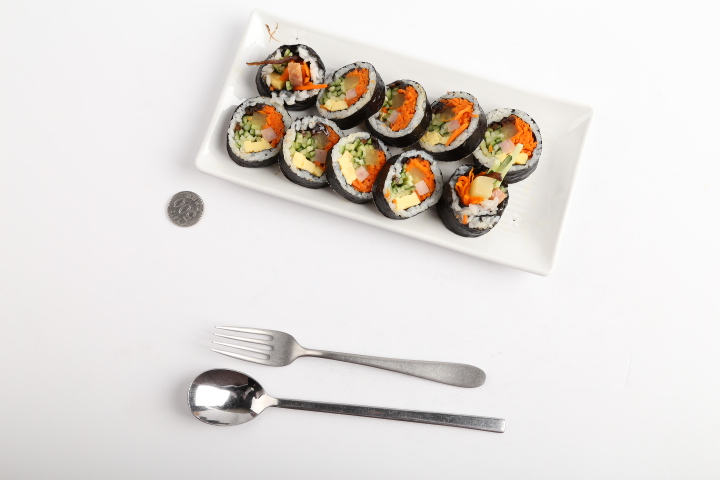dish: (194, 10, 593, 277)
ref_coin: (166, 191, 205, 227)
ref_fork: (210, 325, 306, 367)
ref_spoon: (188, 368, 275, 427)
김밥: (226, 43, 543, 239)
